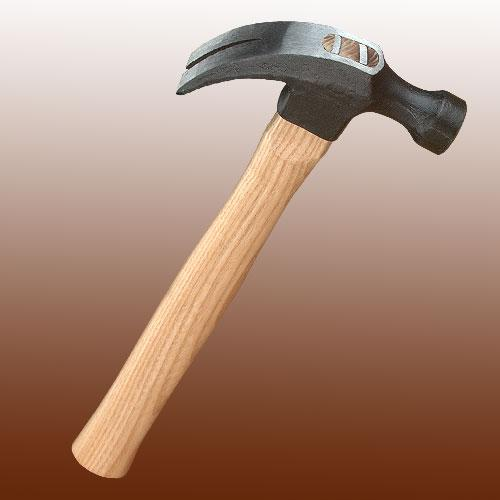hammer: (68, 17, 468, 479)
